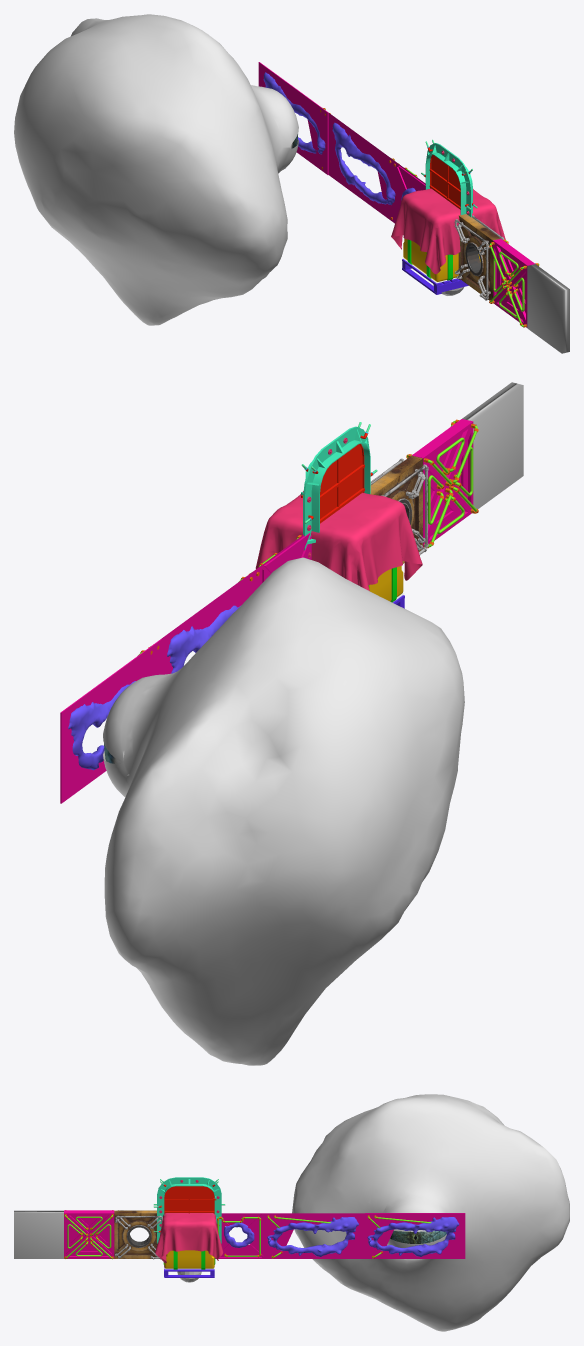
Rendered from Walls.fbx.
3 views of the same model, one above another, from view 1: azimuth 30°, elevation 25°; view 2: azimuth 150°, elevation 25°; view 3: azimuth 270°, elevation 25° (orthographic). The views are drawn at different scales.
Visible parts, largest first — view 1: Sphere, bouate touale, Plane.005, Cube.003, Plane.003, Plane.004, Plane.006, boate, DoorFrameOpenable, Door, Plane.002; view 2: Sphere, bouate touale, Plane.006, Cube.003, Plane.004, Plane.005, DoorFrameOpenable, Plane.003, Door, Plane.002, boate; view 3: Sphere, Plane.006, Plane.005, Plane.004, Cube.003, bouate touale, Plane.003, Plane.002, Door, DoorFrameOpenable, boate, Sphere.001.
Boxes of the visible parts, <box> form: Sphere: <box>14,14,298,325</box>; bouate touale: <box>391,188,505,274</box>; Plane.005: <box>328,113,399,223</box>; Cube.003: <box>527,264,569,353</box>; Plane.003: <box>454,214,503,300</box>; Plane.004: <box>489,239,539,327</box>; Plane.006: <box>258,62,330,174</box>; boate: <box>402,238,480,294</box>; DoorFrameOpenable: <box>421,139,477,217</box>; Door: <box>429,155,460,209</box>; Plane.002: <box>397,163,425,216</box>; Sphere: <box>103,557,464,1065</box>; bouate touale: <box>255,491,422,590</box>; Plane.006: <box>60,639,161,803</box>; Cube.003: <box>462,382,523,508</box>; Plane.004: <box>406,419,478,548</box>; Plane.005: <box>161,566,260,674</box>; DoorFrameOpenable: <box>301,422,377,557</box>; Plane.003: <box>370,455,428,563</box>; Door: <box>301,443,364,523</box>; Plane.002: <box>259,533,311,583</box>; boate: <box>368,566,404,608</box>; Sphere: <box>292,1094,569,1331</box>; Plane.006: <box>365,1213,465,1258</box>; Plane.005: <box>264,1213,364,1258</box>; Plane.004: <box>64,1210,114,1259</box>; Cube.003: <box>14,1210,63,1258</box>; bouate touale: <box>155,1213,223,1263</box>; Plane.003: <box>114,1210,162,1259</box>; Plane.002: <box>215,1213,264,1258</box>; Door: <box>164,1186,216,1213</box>; DoorFrameOpenable: <box>153,1177,225,1243</box>; boate: <box>163,1250,215,1277</box>; Sphere.001: <box>390,1231,446,1243</box>.
Bounding box in the file's own units: 906 × 1020 × 2217.
